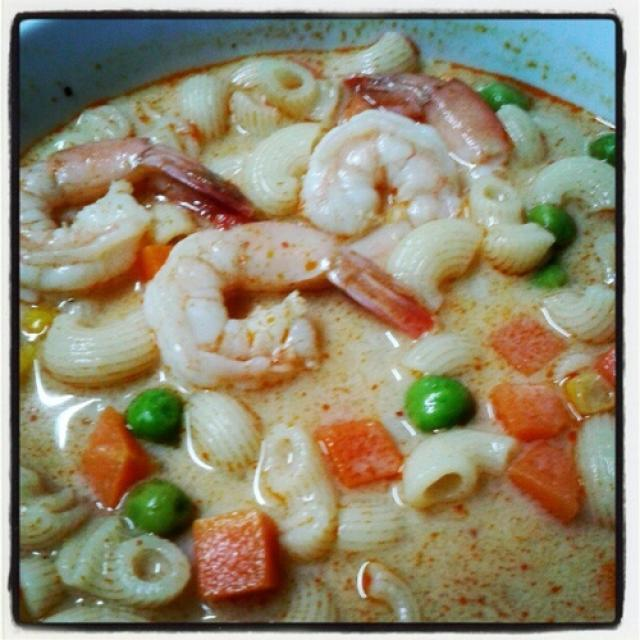汤锅炖物: (32, 58, 608, 616)
